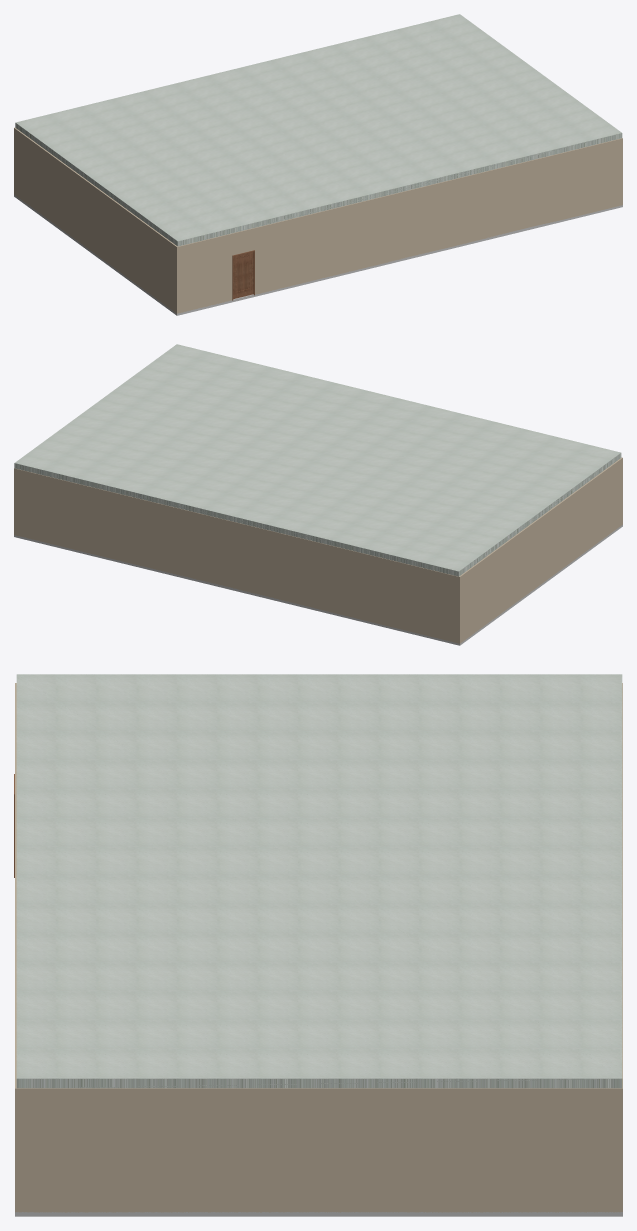
Rendered from flat01.obj.
The picture shows the model from 3 angles, top to bottom: view 1: azimuth 30°, elevation 25°; view 2: azimuth 150°, elevation 25°; view 3: azimuth 270°, elevation 25°; orthographic projection. The views are drawn at different scales.
Parts seen in each view (by area): view 1: Box028, Box001, Box002, PivotDoor009; view 2: Box028, Box001, Box002; view 3: Box028, Box001, Box002.
Part boxes in pixels (box(x1,y1,x2,y2)): Box028: box(15, 14, 622, 246); Box001: box(14, 127, 622, 313); Box002: box(14, 194, 622, 315); PivotDoor009: box(232, 250, 254, 300); Box028: box(14, 344, 621, 576); Box001: box(14, 457, 622, 643); Box002: box(14, 525, 622, 645); Box028: box(16, 674, 622, 1088); Box001: box(15, 683, 622, 1212); Box002: box(15, 1212, 622, 1216).
Size of the model in its own units: 22.29 by 3.53 by 14.14.
